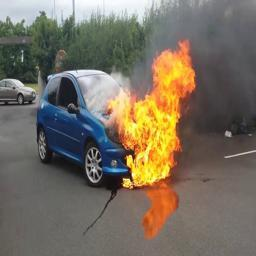fire: (108, 41, 197, 188)
